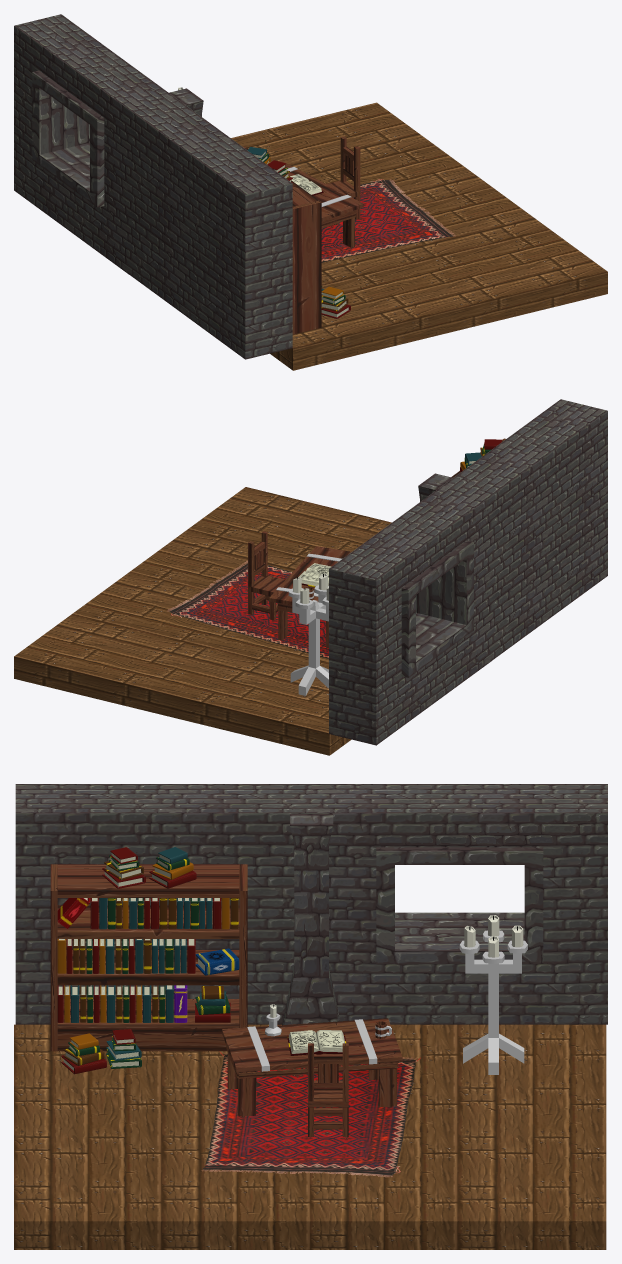
Rendered from title_scene.fbx.
3 views of the same model, one above another, from view 1: azimuth 30°, elevation 25°; view 2: azimuth 150°, elevation 25°; view 3: azimuth 270°, elevation 25° (orthographic). The views are drawn at different scales.
Parts seen in each view (by area): view 1: wall1, wall1_window, floor3, floor4, floor1, carpet, bookcase, table, chair; view 2: wall1_window, wall1, floor4, floor3, floor2, carpet, candlestick_tall, chair, table; view 3: wall1_window, wall1, floor4, floor3, floor2, bookcase, carpet, floor1, pillar, table, candlestick_tall, chair (+3 smaller).
Part boxes in pixels (bbox=[...]): wall1: bbox=[129, 99, 292, 359]; wall1_window: bbox=[14, 14, 176, 274]; floor3: bbox=[371, 187, 607, 332]; floor4: bbox=[231, 102, 491, 205]; floor1: bbox=[270, 252, 450, 370]; carpet: bbox=[321, 179, 455, 262]; bookcase: bbox=[243, 146, 321, 334]; table: bbox=[279, 160, 363, 247]; chair: bbox=[326, 136, 360, 225]; wall1_window: bbox=[329, 484, 492, 745]; wall1: bbox=[445, 399, 607, 659]; floor4: bbox=[14, 572, 250, 716]; floor3: bbox=[130, 487, 391, 589]; floor2: bbox=[171, 636, 351, 755]; carpet: bbox=[167, 560, 328, 658]; candlestick_tall: bbox=[288, 585, 328, 695]; chair: bbox=[248, 531, 285, 620]; table: bbox=[269, 546, 351, 647]; wall1_window: bbox=[311, 784, 607, 1024]; wall1: bbox=[15, 784, 311, 1024]; floor4: bbox=[310, 1123, 606, 1249]; floor3: bbox=[14, 1123, 310, 1249]; floor2: bbox=[391, 1024, 606, 1122]; bookcase: bbox=[50, 864, 247, 1051]; carpet: bbox=[201, 1051, 420, 1177]; floor1: bbox=[14, 1024, 281, 1122]; pillar: bbox=[282, 814, 340, 1025]; table: bbox=[222, 1018, 402, 1116]; candlestick_tall: bbox=[459, 930, 527, 1074]; chair: bbox=[308, 1043, 348, 1136].
Size of the model in its own units: 66.1 by 31.99 by 71.91.
